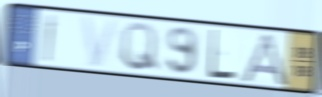9: (165, 25, 199, 77)
A: (237, 31, 290, 89)
I: (42, 12, 59, 64)
L: (208, 27, 237, 81)
Q: (119, 21, 161, 74)
V: (80, 15, 122, 70)
